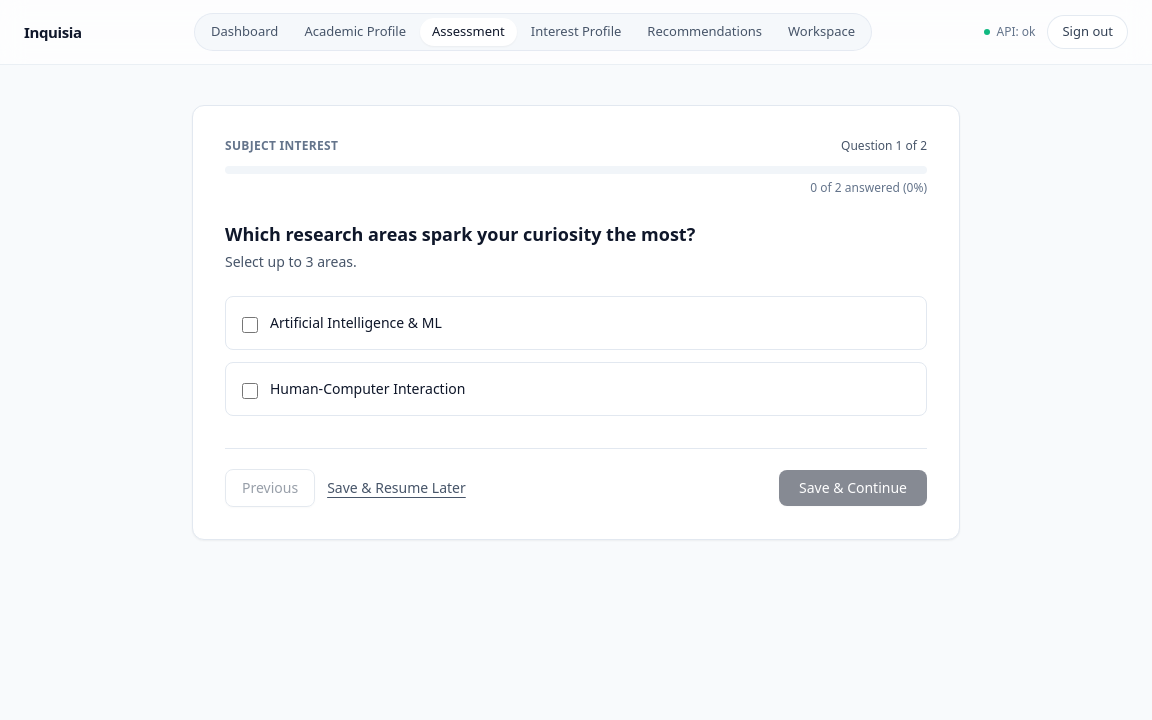
Test: AssessmentPage › answers core questions, unlocks adaptive follow-up, and completes assessment
Expected: the heading "Which research areas spark your curiosity the most?" is shown, [225,222,695,246]
Step 1. Click the text "Artificial Intelligence & ML" → click(356, 323), box [270,313,442,333]
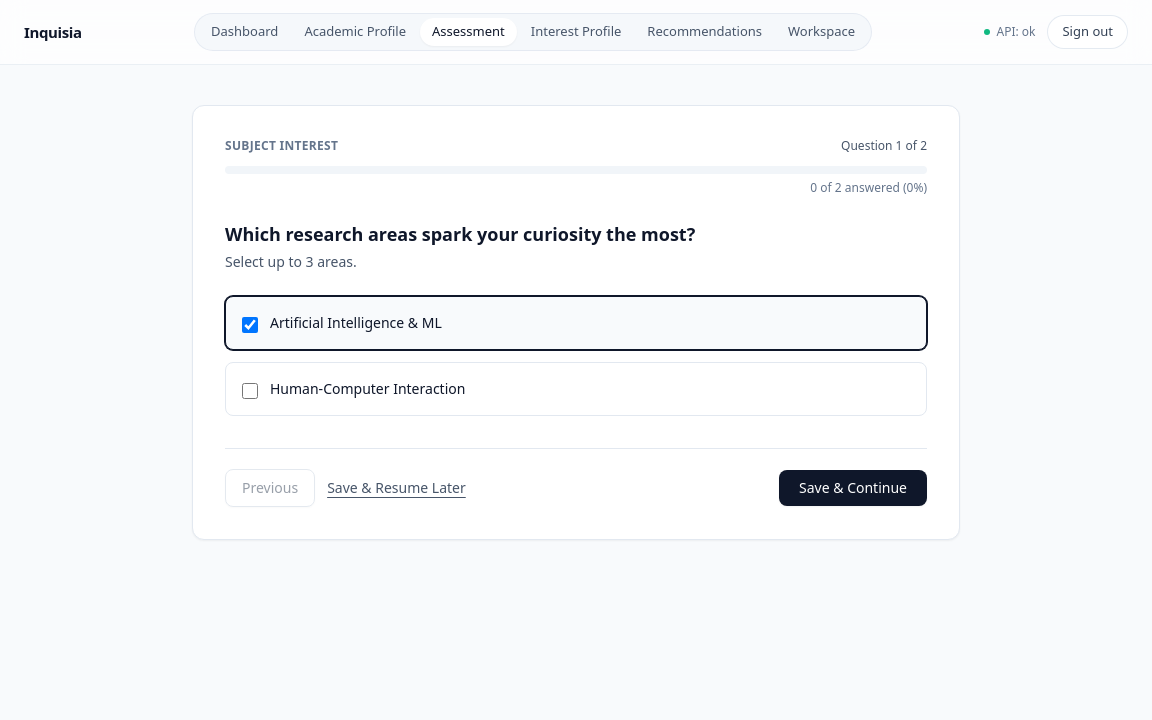
Step 2. Click the button "Save & Continue" → click(853, 488), box [779,470,927,506]
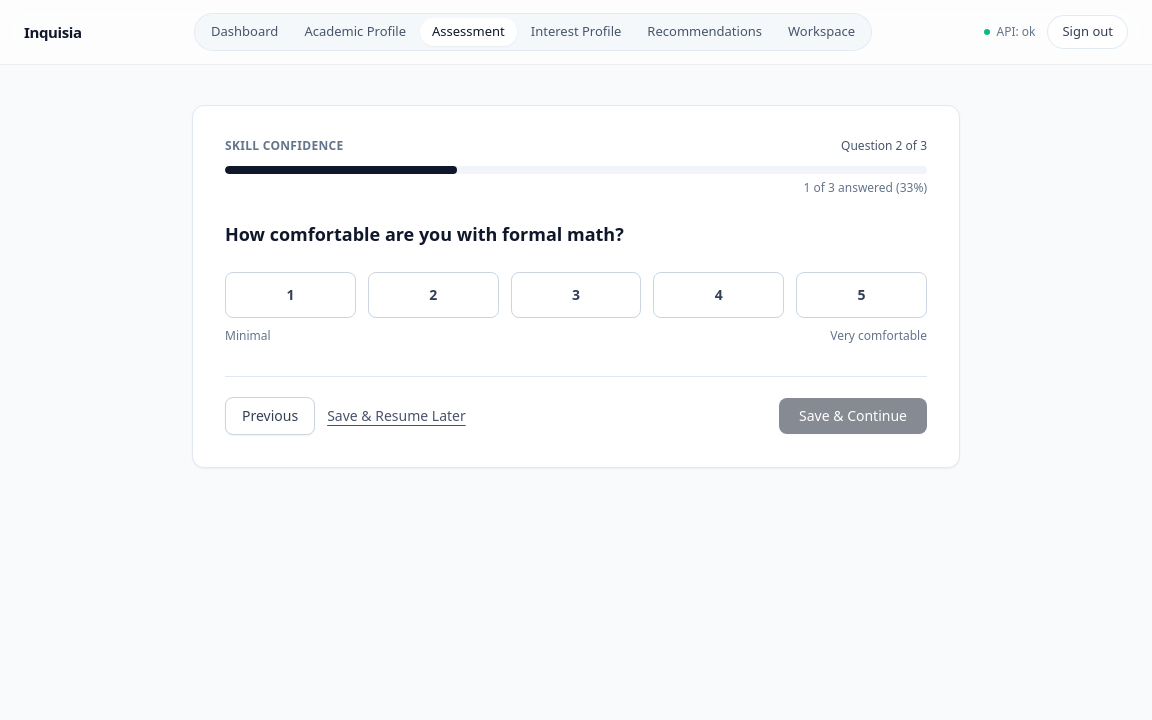
Expected: the heading "How comfortable are you with formal math?" is shown, [225,222,624,246]
Step 3. Click the button "4" → click(719, 295), box [653,272,784,318]
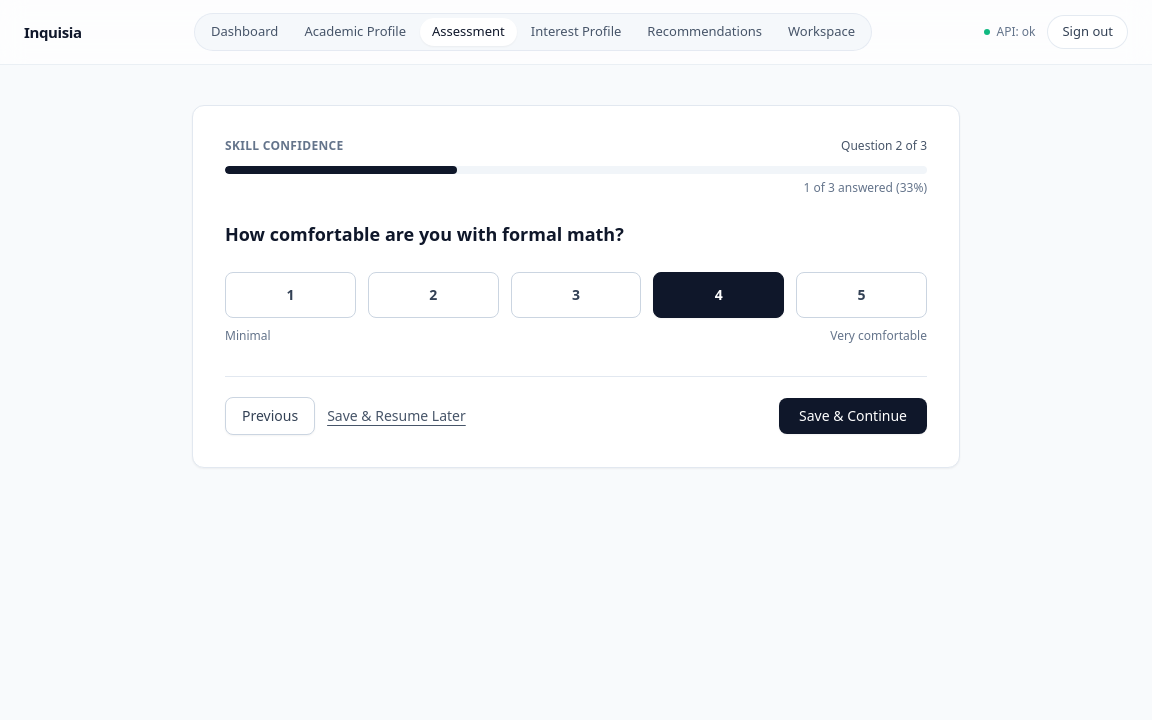
Step 4. Click the button "Save & Continue" → click(853, 416), box [779,398,927,434]
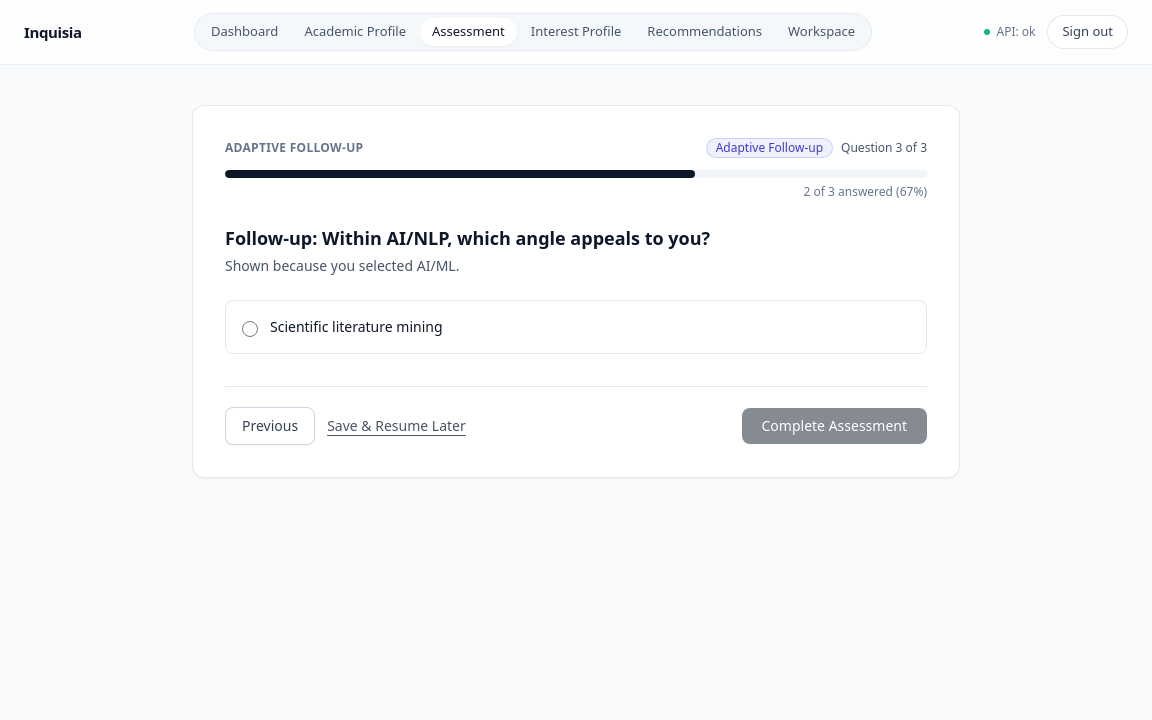
Expected: the heading "Follow-up: Within AI/NLP, which angle appeals to you?" is shown, [225,226,710,250]
Step 5. Click the text "Scientific literature mining" → click(356, 327), box [270,317,442,337]
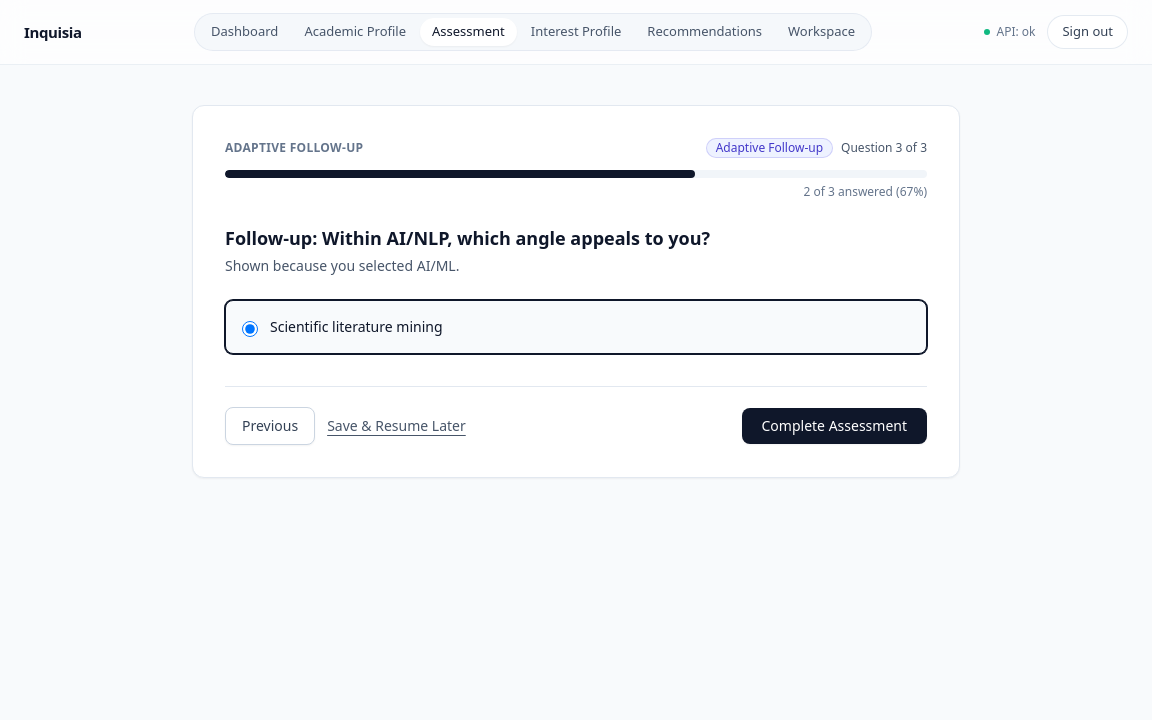
Step 6. Click the button "Complete Assessment" → click(834, 426), box [742,408,927,444]
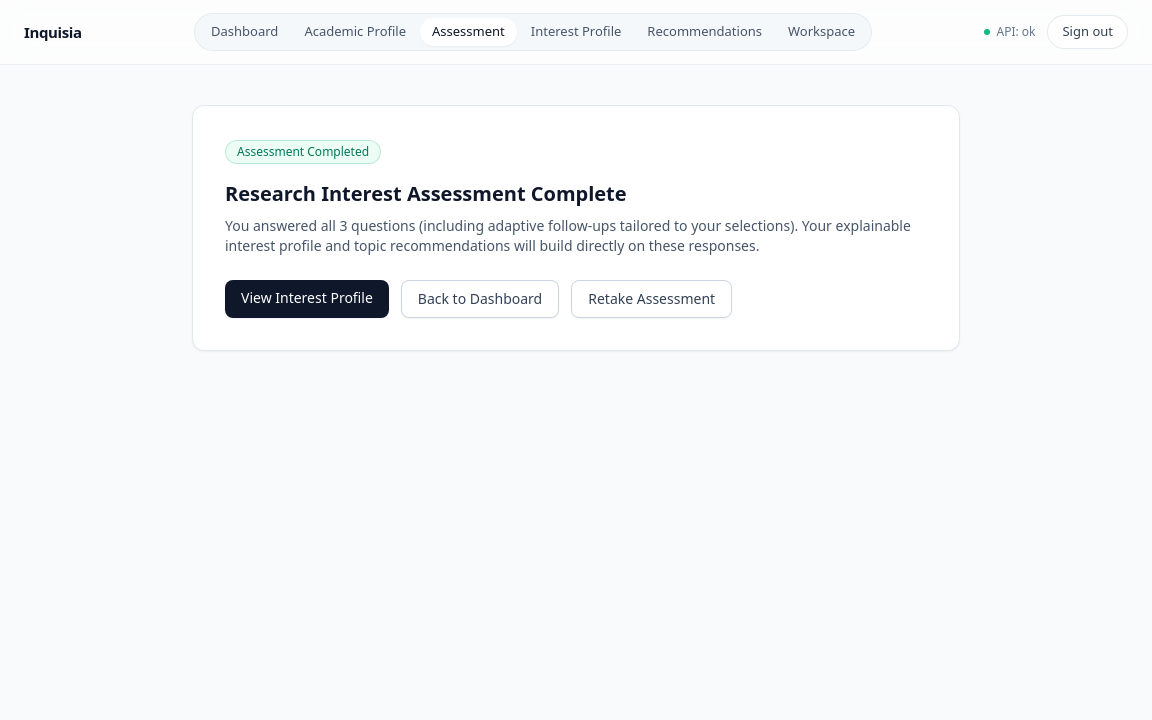
Expected: the heading "Research Interest Assessment Complete" is shown, [225,180,627,207]
